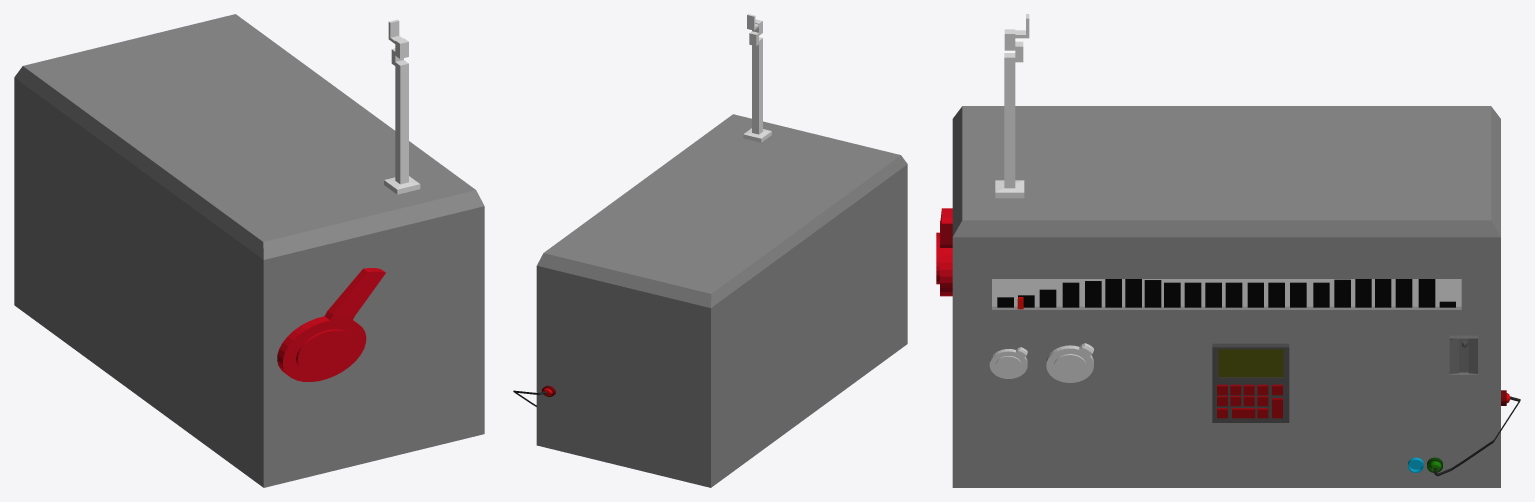
File: Amplifier.fbx
3 views of the same model, side by side, from view 1: azimuth 30°, elevation 25°; view 2: azimuth 150°, elevation 25°; view 3: azimuth 270°, elevation 25° (orthographic). The views are drawn at different scales.
Parts seen in each view (by area): view 1: Plane; view 2: Plane; view 3: Plane.
Boxes of the visible parts, <box> form: Plane: <box>14,14,484,487</box>; Plane: <box>513,14,907,487</box>; Plane: <box>936,14,1520,487</box>.
Bounding box in the file's own units: 80.11 × 121 × 145.
